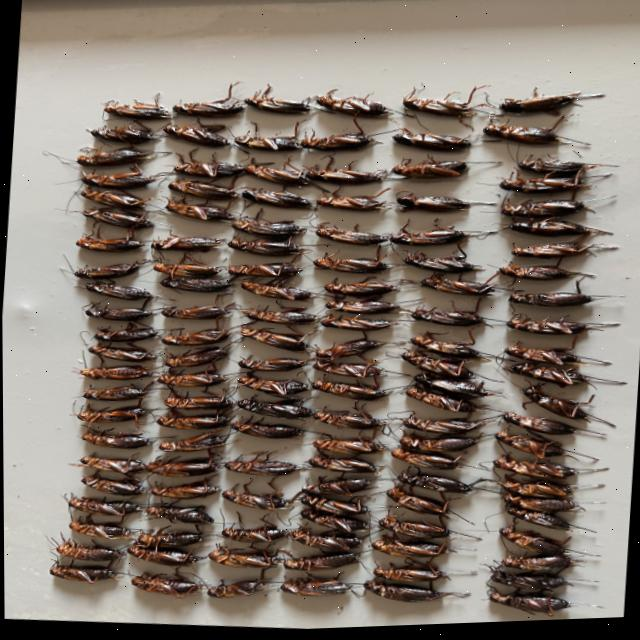egg: (502, 415, 604, 440), (505, 506, 591, 535), (504, 346, 610, 369), (493, 433, 580, 461), (522, 389, 593, 423), (486, 590, 572, 618), (362, 581, 466, 604), (506, 317, 617, 337), (503, 366, 599, 389), (482, 128, 587, 149), (402, 90, 474, 119), (414, 377, 501, 401), (405, 388, 485, 414), (498, 529, 567, 559), (492, 458, 577, 482), (384, 488, 447, 519), (370, 537, 454, 560), (402, 355, 476, 381), (409, 335, 483, 361), (104, 93, 176, 119), (388, 229, 491, 247), (244, 87, 310, 115), (315, 92, 388, 117), (498, 175, 589, 195), (236, 397, 314, 420), (489, 573, 570, 595), (130, 573, 201, 598), (388, 230, 491, 247), (509, 222, 609, 239), (396, 474, 473, 496), (392, 130, 469, 152), (403, 254, 483, 275), (499, 95, 578, 116), (377, 517, 449, 540), (497, 266, 594, 283), (299, 510, 368, 533), (239, 328, 305, 352), (127, 545, 202, 566), (287, 531, 362, 552), (511, 246, 616, 261), (305, 165, 380, 186), (403, 419, 490, 437), (312, 381, 386, 402), (312, 257, 398, 275), (500, 557, 577, 577), (67, 494, 137, 516), (517, 158, 602, 176), (398, 436, 478, 455), (236, 377, 308, 398), (314, 227, 389, 247), (207, 547, 278, 568), (75, 149, 168, 165), (79, 208, 153, 228), (499, 483, 581, 501), (421, 277, 491, 298), (163, 125, 229, 147), (298, 495, 367, 516), (315, 341, 384, 362), (508, 295, 604, 310), (172, 97, 244, 117), (55, 539, 123, 560), (372, 565, 447, 584), (391, 450, 458, 471), (144, 458, 218, 477), (392, 161, 466, 180), (410, 310, 484, 329), (227, 238, 304, 256), (148, 479, 217, 499), (501, 204, 587, 220), (282, 554, 358, 572), (240, 282, 312, 301), (49, 563, 117, 583), (165, 201, 233, 221), (158, 433, 229, 452), (221, 491, 288, 511), (238, 189, 308, 208), (223, 459, 301, 476), (80, 475, 146, 495), (279, 579, 352, 597), (70, 455, 143, 473), (80, 429, 149, 448), (313, 412, 382, 431), (232, 219, 304, 237), (230, 421, 302, 439), (301, 480, 369, 499), (80, 171, 156, 188), (79, 189, 150, 207), (510, 499, 584, 516), (323, 282, 397, 299), (300, 135, 373, 152), (144, 506, 212, 524), (396, 196, 468, 213), (246, 309, 318, 326), (245, 166, 306, 186), (164, 348, 228, 367), (85, 283, 156, 300), (73, 406, 148, 422), (320, 318, 400, 333), (312, 362, 382, 379), (87, 345, 156, 362), (136, 529, 201, 547), (168, 181, 233, 199), (156, 371, 229, 387), (306, 458, 378, 474), (73, 262, 140, 279), (316, 196, 387, 212), (311, 440, 382, 456), (68, 520, 131, 538), (89, 126, 152, 144), (160, 277, 230, 293), (73, 366, 152, 380), (206, 581, 271, 598), (75, 235, 144, 251), (155, 415, 228, 430), (325, 301, 398, 316), (221, 526, 285, 543), (174, 162, 242, 178), (160, 330, 228, 346), (152, 262, 219, 278), (227, 264, 302, 278), (234, 136, 299, 152), (151, 237, 224, 251), (163, 395, 228, 410), (82, 386, 145, 401), (237, 359, 306, 372), (93, 327, 157, 341), (84, 308, 157, 320), (160, 307, 227, 320), (601, 384, 624, 388), (208, 126, 223, 131), (533, 167, 540, 174)
